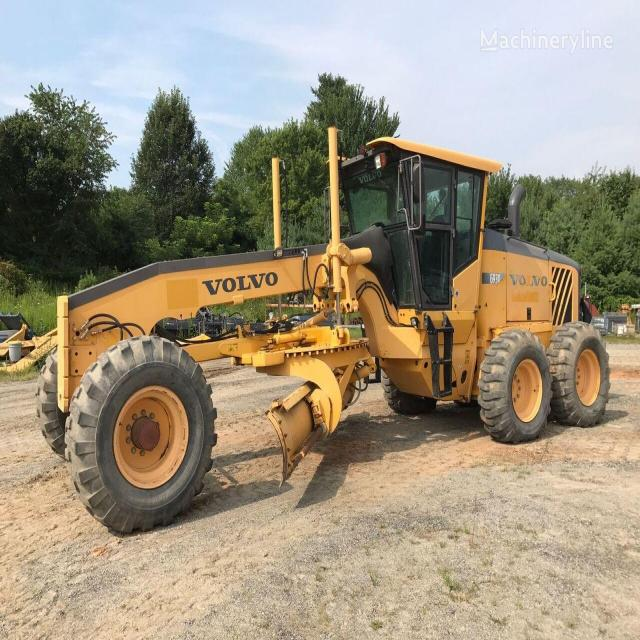Grader: (22, 109, 622, 535)
